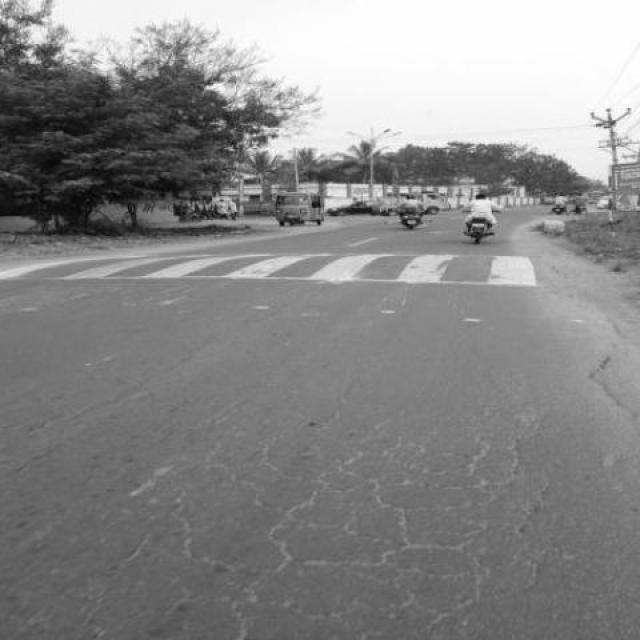Speed Bump: (1, 250, 540, 285)
